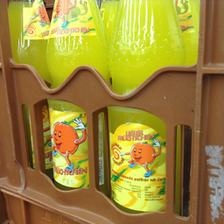soda: (108, 1, 185, 218), (44, 2, 115, 191), (8, 1, 48, 173)
